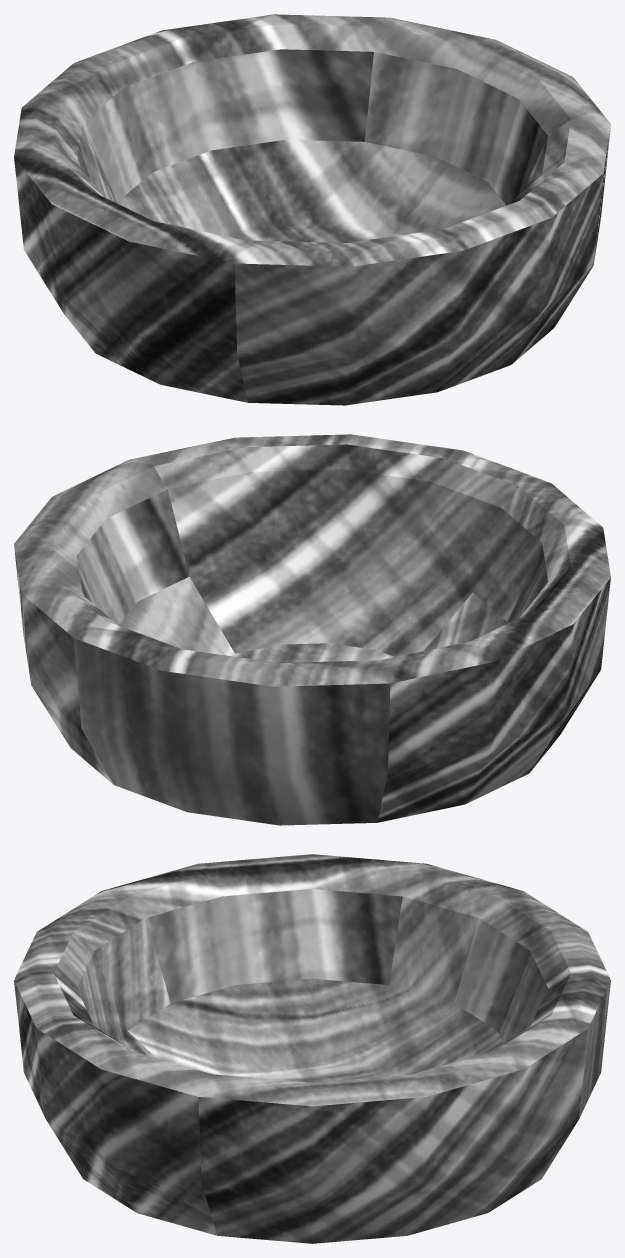
The model's file is Miska (1).fbx.
The picture shows the model from 3 angles, top to bottom: view 1: azimuth 30°, elevation 25°; view 2: azimuth 150°, elevation 25°; view 3: azimuth 270°, elevation 25°; orthographic projection.
Visible parts, largest first — view 1: Circle; view 2: Circle; view 3: Circle.
Boxes of the visible parts, left/top/right/bottom form: Circle: left=14, top=14, right=610, bottom=405; Circle: left=14, top=434, right=610, bottom=825; Circle: left=14, top=854, right=610, bottom=1243.
Size of the model in its own units: 241 by 74.19 by 241.
